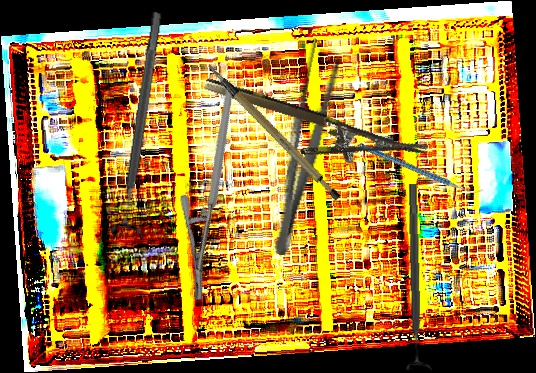Chopper: (360, 109, 485, 229)
Dressing Forceps: (263, 36, 346, 260)
Fixation Ring: (107, 10, 176, 240), (397, 183, 435, 371)
Needle Holder: (130, 82, 300, 304), (194, 74, 428, 191)
Scalpel Handle: (205, 45, 344, 216)
